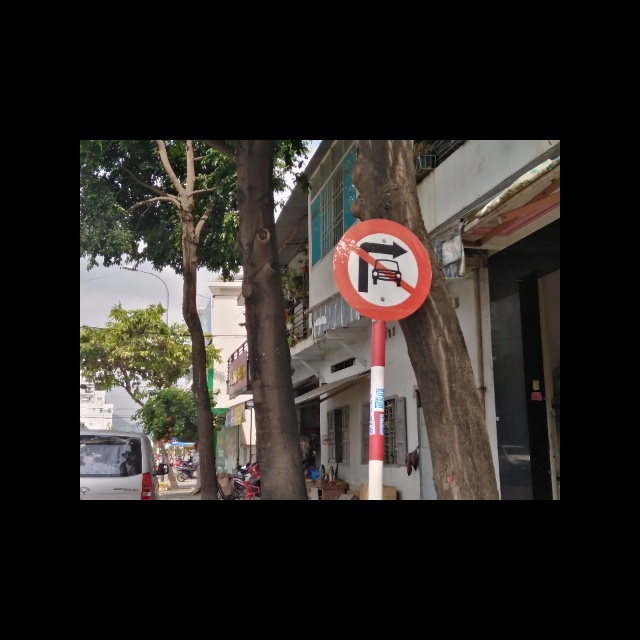Cấm xe ô tô rẽ trái: (331, 217, 434, 321)
